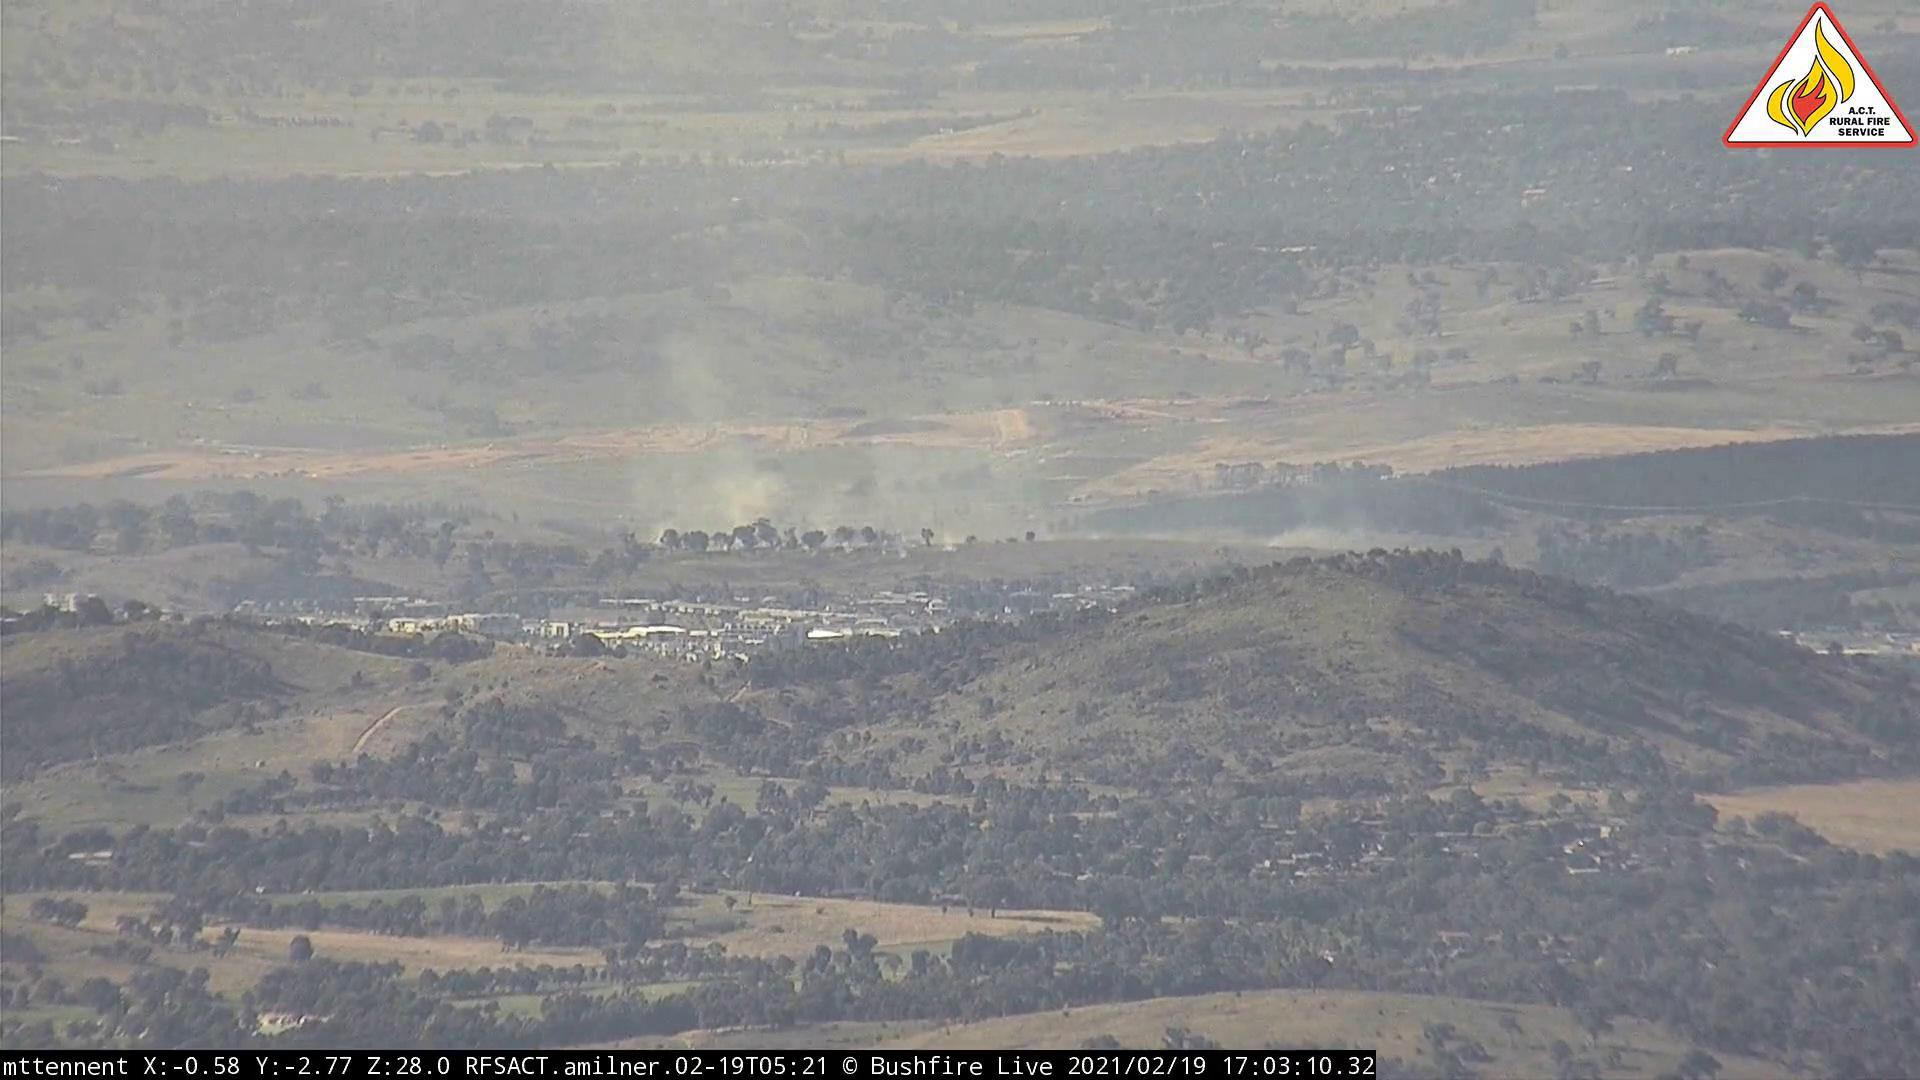Smoke: (647, 342, 1058, 550), (1267, 458, 1399, 550)
